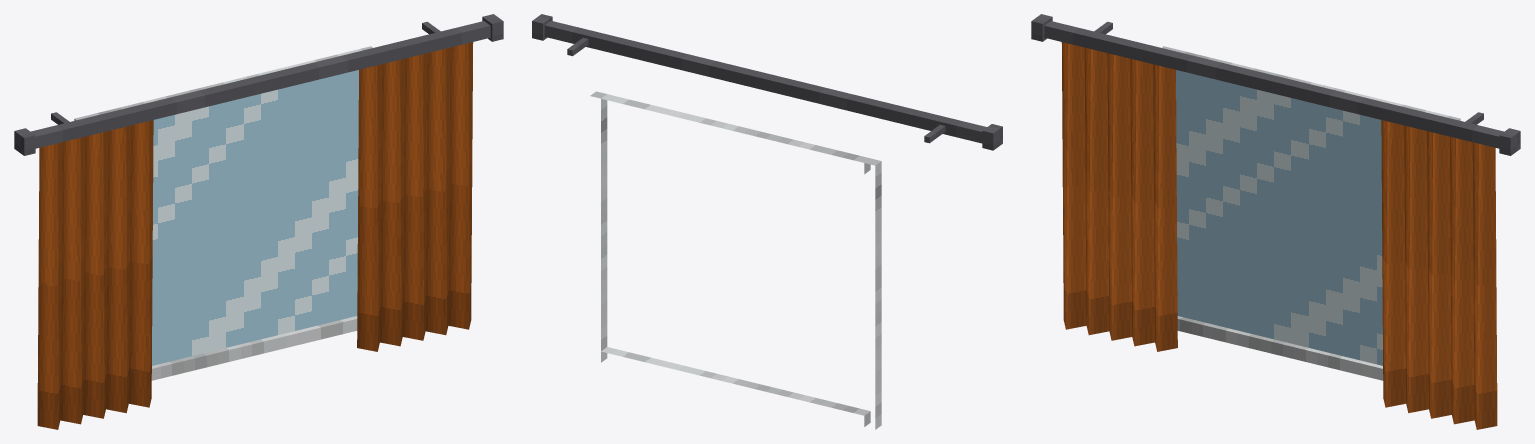
Rendered from window.glb.
The picture shows the model from 3 angles, left to right: view 1: azimuth 30°, elevation 25°; view 2: azimuth 150°, elevation 25°; view 3: azimuth 330°, elevation 25°; orthographic projection. The views are drawn at different scales.
Visible parts, largest first — view 1: glass, curtain_right, curtain_left, rod, frame_bottom, frame_top, finial_left; view 2: rod, frame_left, frame_bottom, frame_right, frame_top, finial_left; view 3: glass, curtain_left, curtain_right, rod, frame_bottom, frame_top, finial_right.
Part boxes in pixels (x1,y1,x2,y2): glass: (152,70,358,365); curtain_right: (357,42,473,351); curtain_left: (37,120,153,429); rod: (31,21,490,148); frame_bottom: (151,316,357,380); frame_top: (86,49,361,117); finial_left: (14,128,35,155); rod: (544,20,986,143); frame_left: (865,158,881,429); frame_bottom: (601,347,870,426); frame_right: (590,91,607,362); frame_top: (601,94,870,174); finial_left: (982,124,1002,150); glass: (1176,70,1382,365); curtain_left: (1061,42,1177,351); curtain_right: (1381,120,1497,429); rod: (1044,21,1503,148); frame_bottom: (1177,316,1383,380); frame_top: (1173,49,1448,117); finial_right: (1499,128,1520,155).
Size of the model in its own units: 2.62 by 1.61 by 0.3906.
4 materials, 4 textured.
